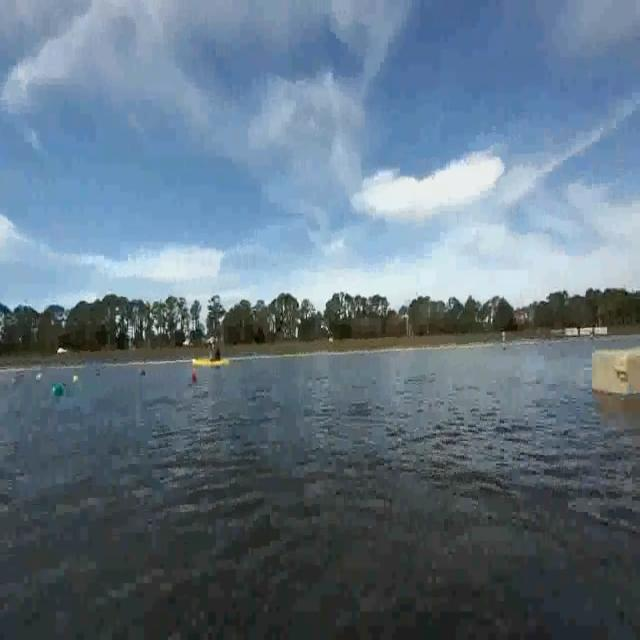green-buoy: (54, 384, 66, 398)
yellow-buoy: (72, 374, 80, 385)
